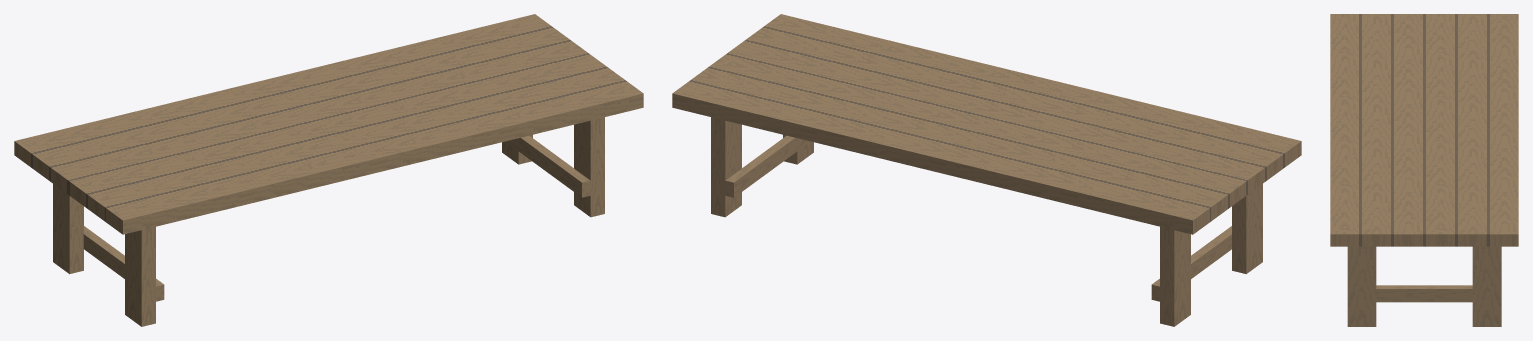
The model's file is 0394_Wooden_Bench.glb.
3 renders of one model, left to right at view 1: azimuth 30°, elevation 25°; view 2: azimuth 150°, elevation 25°; view 3: azimuth 270°, elevation 25°, orthographic. The views are drawn at different scales.
Visible parts, largest first — view 1: part_0; view 2: part_0; view 3: part_0.
Part boxes in pixels (bbox=[...]): part_0: bbox=[14, 14, 643, 326]; part_0: bbox=[672, 14, 1301, 326]; part_0: bbox=[1330, 14, 1518, 326].
Bounding box in the file's own units: 1.8 × 0.3987 × 0.65.
1 material, 1 textured.
